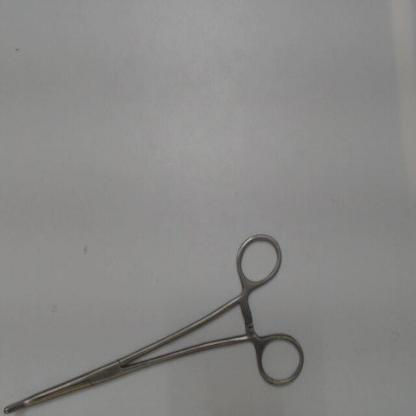Lahey Forceps: (2, 226, 312, 414)
